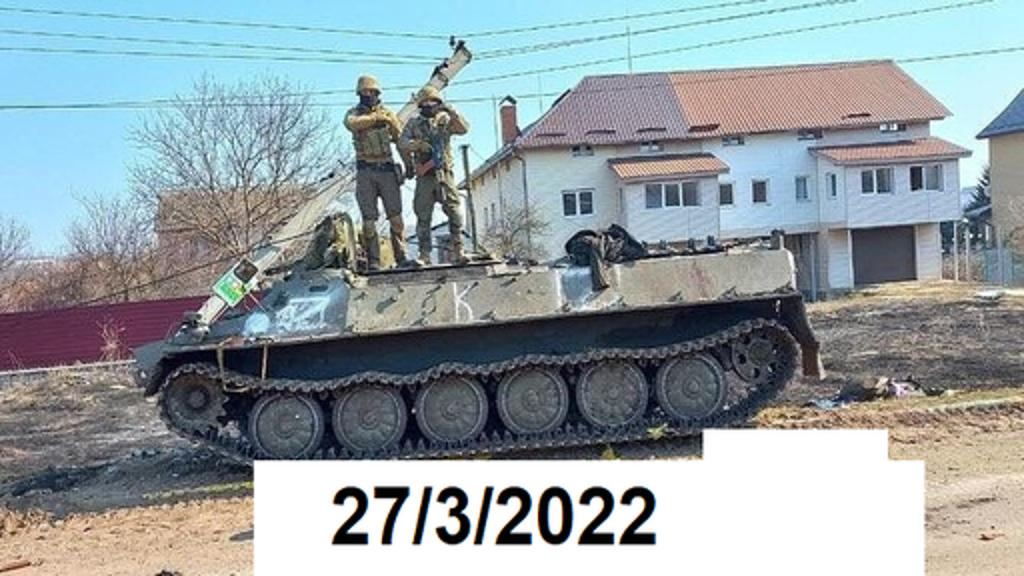APC-IFV: (122, 216, 824, 460)
